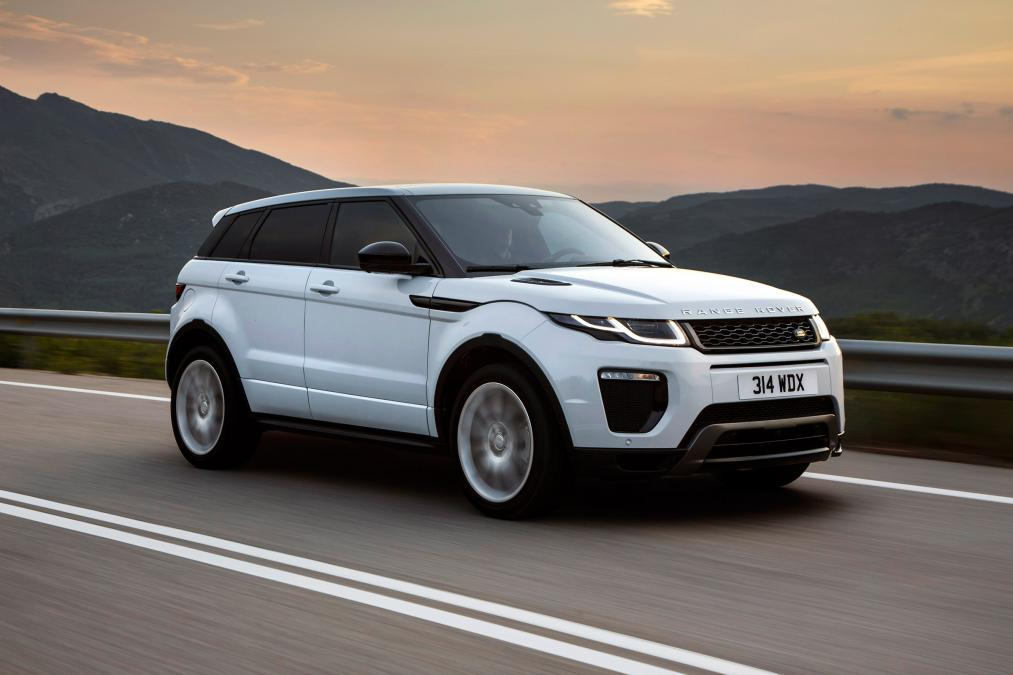pickup: (165, 181, 849, 517)
